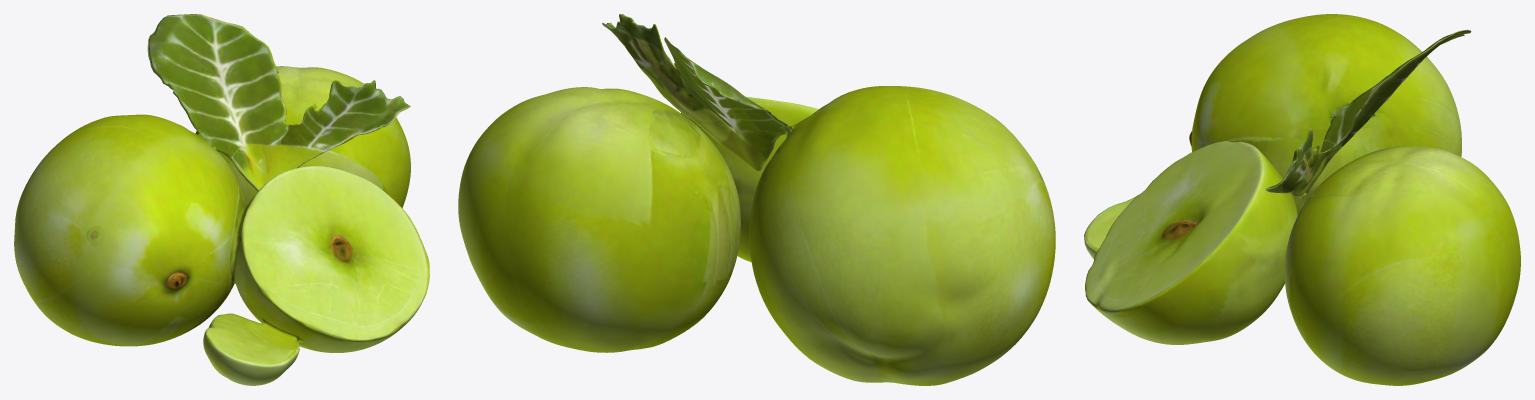
The picture shows the model from 3 angles, left to right: view 1: azimuth 30°, elevation 25°; view 2: azimuth 150°, elevation 25°; view 3: azimuth 270°, elevation 25°; orthographic projection. The views are drawn at different scales.
Visible parts, largest first — view 1: texture; view 2: texture; view 3: texture.
Boxes of the visible parts, bbox=[...] form: texture: bbox=[14, 14, 429, 385]; texture: bbox=[458, 14, 1055, 385]; texture: bbox=[1084, 14, 1520, 385].
Bounding box in the file's own units: 2 × 1.21 × 1.66.
Materials: 1 (1 with a texture image).
